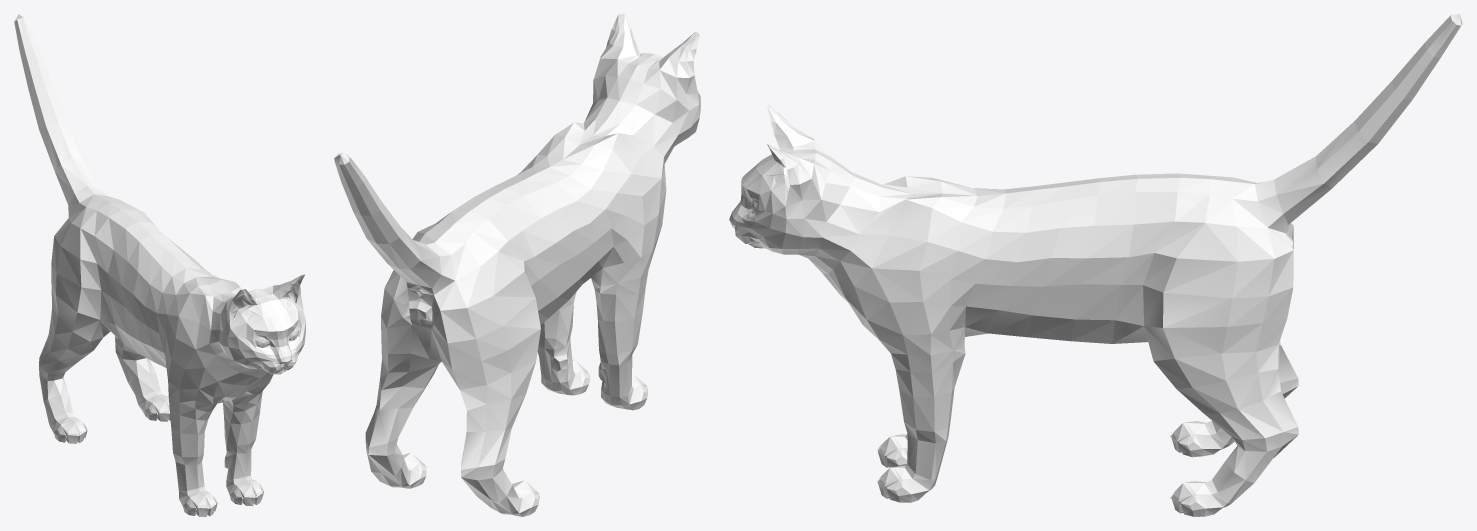
File: cat.obj
The picture shows the model from 3 angles, left to right: view 1: azimuth 30°, elevation 25°; view 2: azimuth 150°, elevation 25°; view 3: azimuth 270°, elevation 25°; orthographic projection. The views are drawn at different scales.
Visible parts, largest first — view 1: Gato; view 2: Gato; view 3: Gato.
Part boxes in pixels (x1=…): Gato: x1=14, y1=14, x2=305, y2=516; Gato: x1=334, y1=14, x2=700, y2=516; Gato: x1=729, y1=14, x2=1462, y2=516.
Bounding box in the file's own units: 1.67 × 4.61 × 6.59.
Materials: 1 (1 with a texture image).
